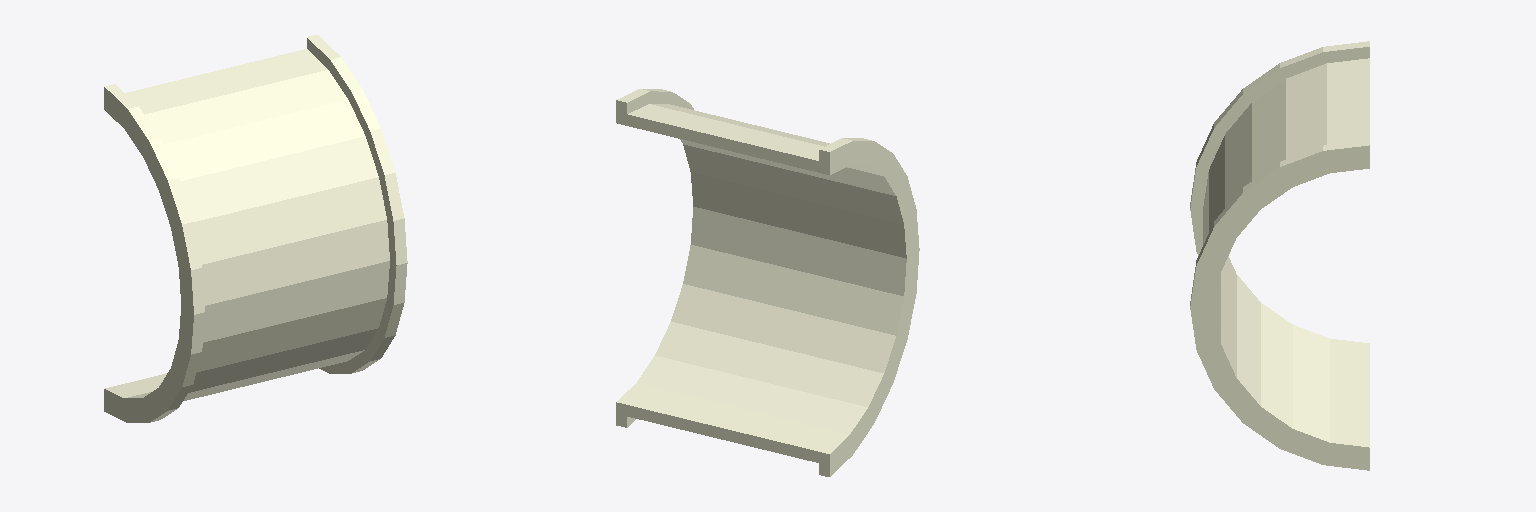
Rendered from section_022.obj.
The picture shows the model from 3 angles: view 1: azimuth 30°, elevation 25°; view 2: azimuth 150°, elevation 25°; view 3: azimuth 270°, elevation 25°; orthographic projection.
Bounding box in the file's own units: 19.23 × 28 × 14.